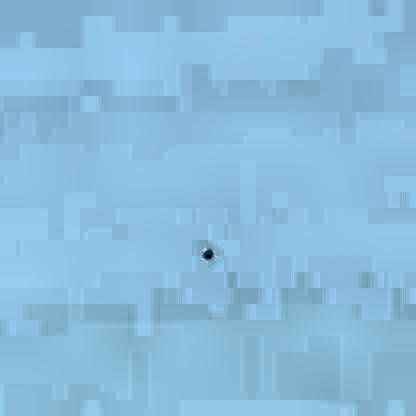golfball: (200, 241, 213, 257)
